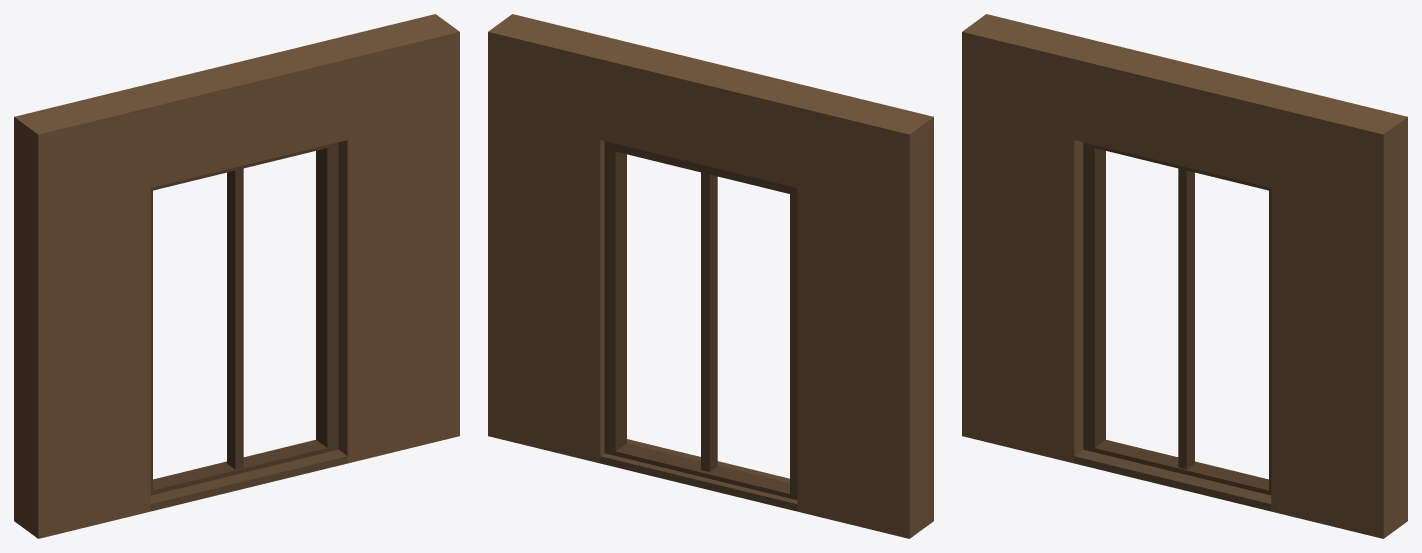
The model's file is Kit_wood_frenchwindow.fbx.
3 views of the same model, side by side, from view 1: azimuth 30°, elevation 25°; view 2: azimuth 150°, elevation 25°; view 3: azimuth 330°, elevation 25° (orthographic).
Visible parts, largest first — view 1: WallJambL, WallJambR, WallAbove, FrameR, Mullion, Threshold, FrameBottom, FrameL, FrameTop; view 2: WallJambL, WallJambR, WallAbove, FrameR, Mullion, Threshold, FrameBottom, FrameL, FrameTop; view 3: WallJambR, WallJambL, WallAbove, FrameL, Mullion, Threshold, FrameBottom, FrameR, FrameTop.
Part boxes in pixels (left/top/right/bottom): WallJambL: left=14, top=89, right=150, bottom=538; WallJambR: left=323, top=14, right=459, bottom=463; WallAbove: left=127, top=41, right=347, bottom=187; FrameR: left=316, top=142, right=338, bottom=451; Mullion: left=227, top=168, right=243, bottom=469; Threshold: left=150, top=449, right=347, bottom=511; FrameBottom: left=151, top=440, right=338, bottom=494; FrameL: left=150, top=187, right=152, bottom=495; FrameTop: left=150, top=145, right=327, bottom=190; WallJambL: left=797, top=89, right=933, bottom=538; WallJambR: left=488, top=14, right=624, bottom=463; WallAbove: left=600, top=41, right=820, bottom=187; FrameR: left=604, top=141, right=626, bottom=455; Mullion: left=701, top=172, right=717, bottom=471; Threshold: left=600, top=439, right=797, bottom=511; FrameBottom: left=605, top=443, right=797, bottom=499; FrameL: left=790, top=186, right=797, bottom=495; FrameTop: left=615, top=144, right=797, bottom=195; WallJambR: left=1271, top=89, right=1407, bottom=538; WallJambL: left=962, top=14, right=1098, bottom=463; WallAbove: left=1074, top=41, right=1294, bottom=187; FrameL: left=1083, top=142, right=1105, bottom=451; Mullion: left=1178, top=168, right=1194, bottom=469; Threshold: left=1074, top=449, right=1271, bottom=511; FrameBottom: left=1083, top=440, right=1270, bottom=494; FrameR: left=1269, top=188, right=1271, bottom=495; FrameTop: left=1094, top=145, right=1271, bottom=190.
Size of the model in its own units: 300 by 30 by 275.
